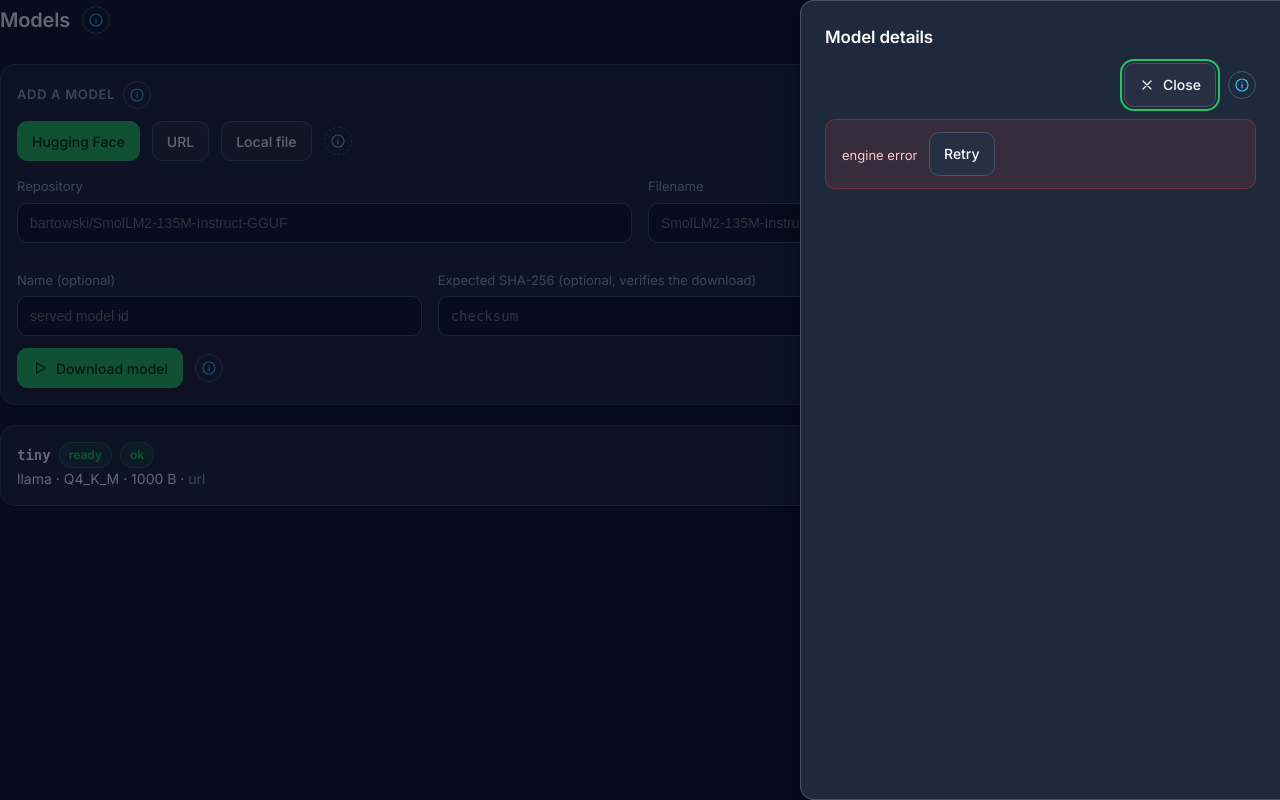
Test case: Model details drawer › shows a server error with Retry, and Retry recovers
expect the message shows "engine error": met, box x1=842 y1=146 x2=917 y2=162
Click the button "Retry" at x=962, y=154, box x1=929 y1=132 x2=995 y2=176
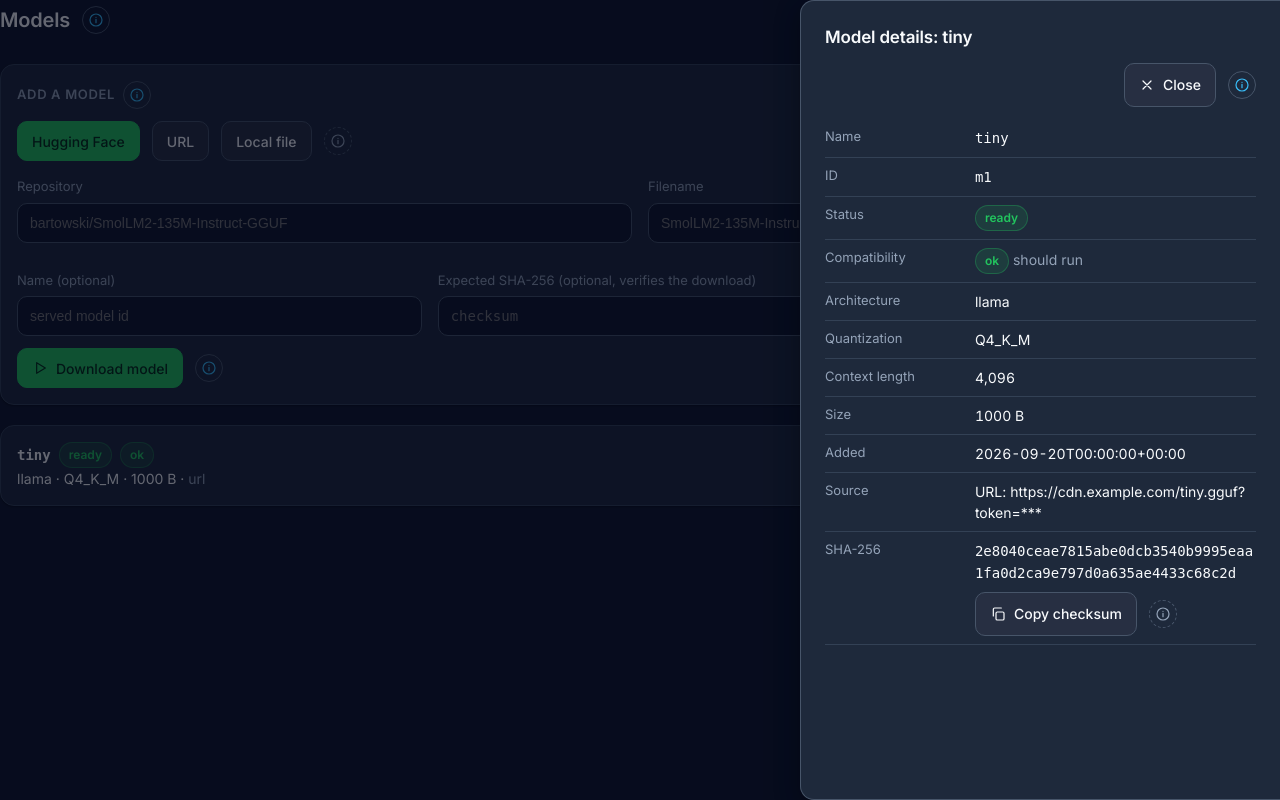
expect the element with test id "model-details" is shown: met, box x1=825 y1=118 x2=1256 y2=644
